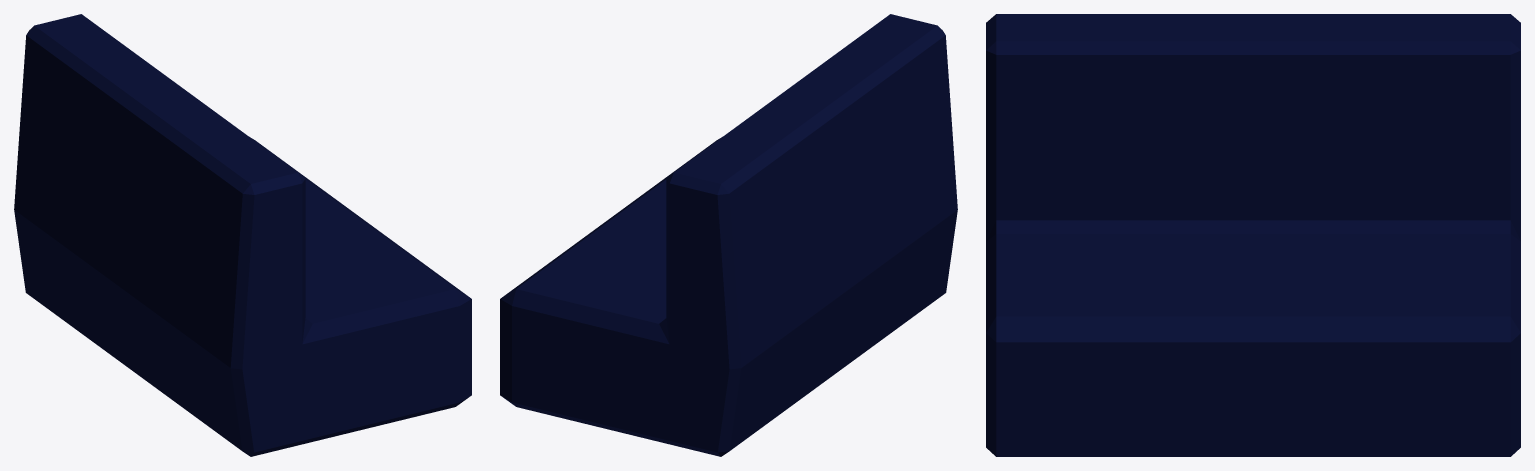
Rendered from Couch 1.fbx.
3 views of the same model, side by side, from view 1: azimuth 30°, elevation 25°; view 2: azimuth 150°, elevation 25°; view 3: azimuth 270°, elevation 25° (orthographic). The views are drawn at different scales.
Parts seen in each view (by area): view 1: Couch; view 2: Couch; view 3: Couch.
Boxes of the visible parts, x1,y1,x2,y2 form: Couch: (14, 14, 471, 456); Couch: (500, 14, 957, 456); Couch: (986, 14, 1520, 456).
Size of the model in its own units: 261 by 282 by 421.
